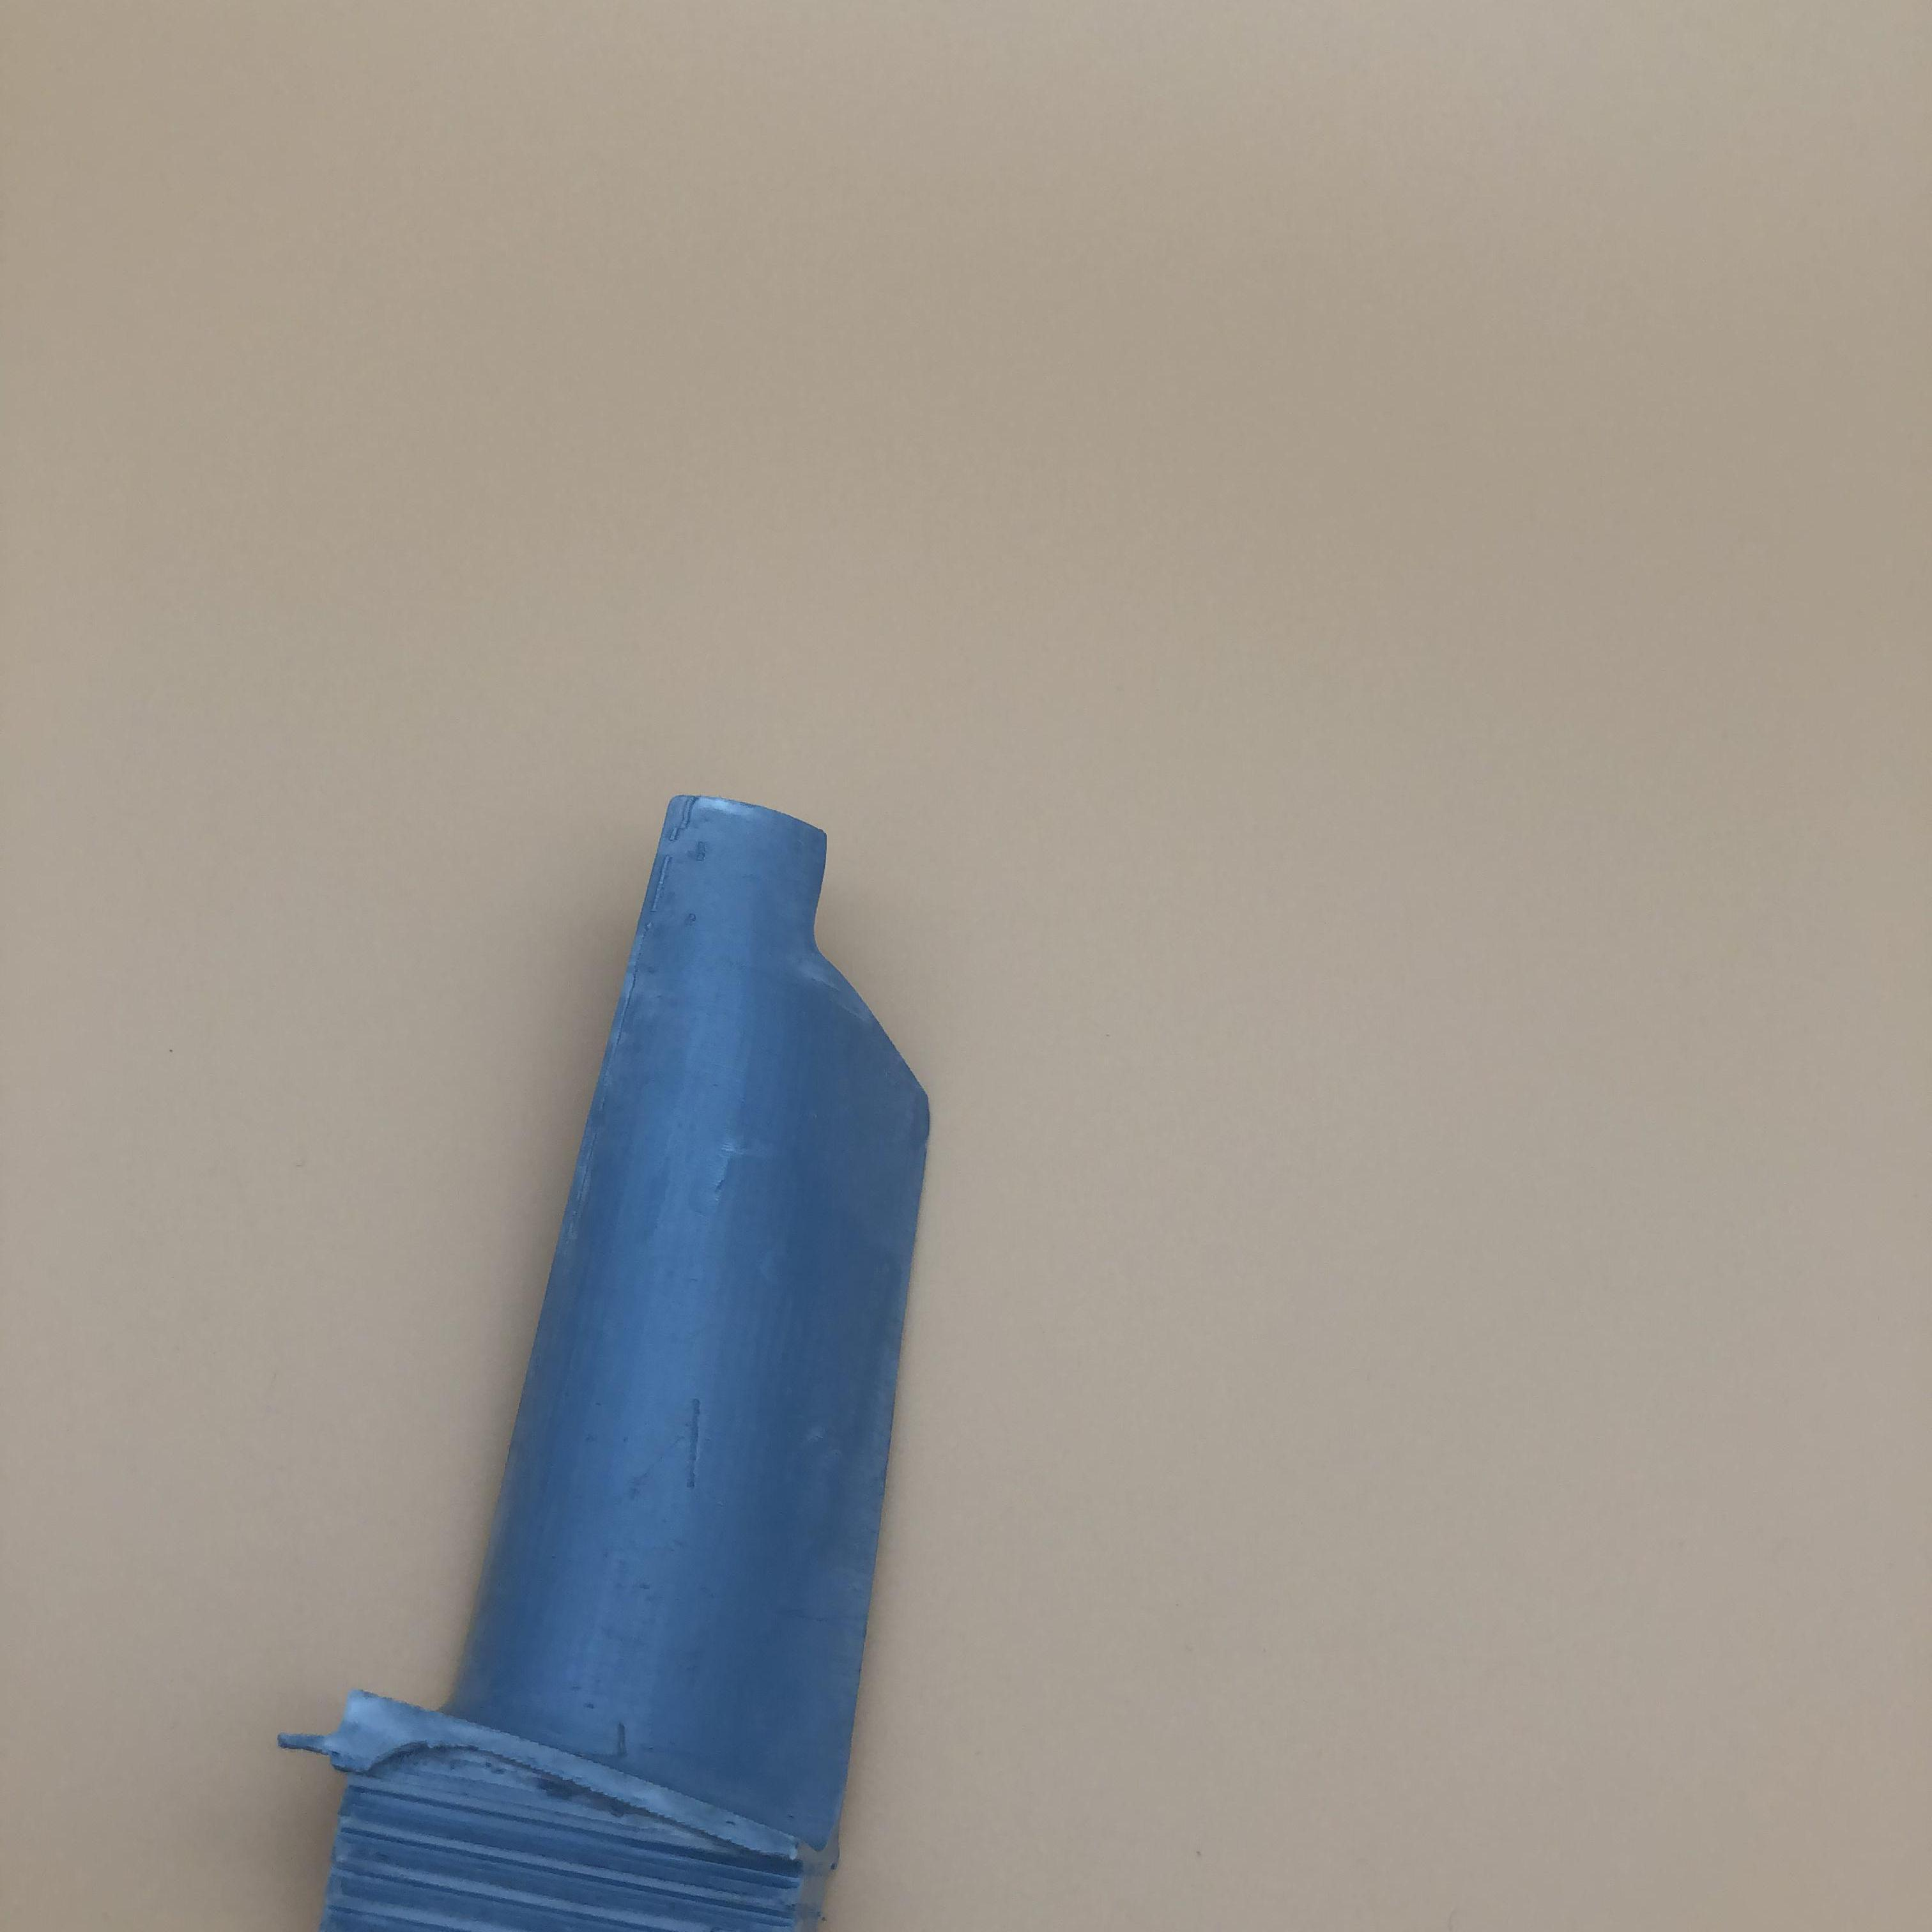fracture: (800, 837, 943, 1127)
